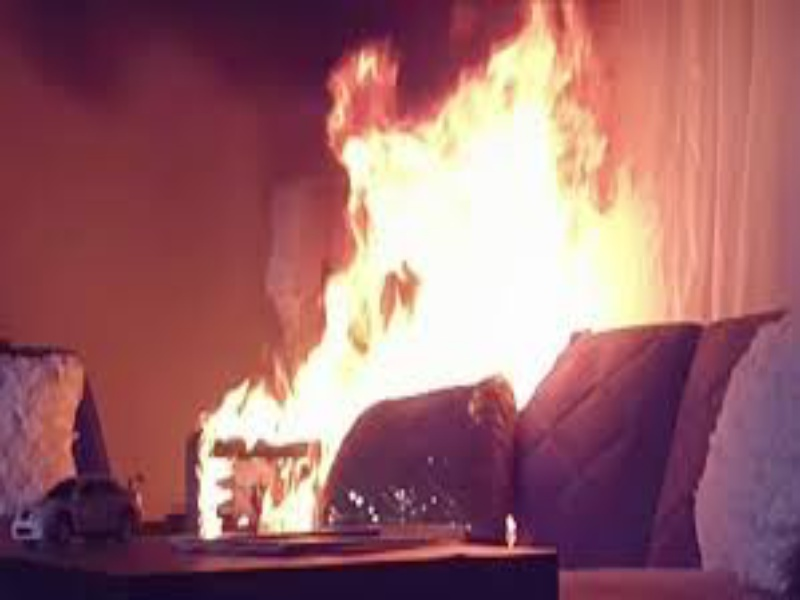fire: (244, 27, 649, 332), (191, 371, 331, 546), (326, 335, 557, 400)
